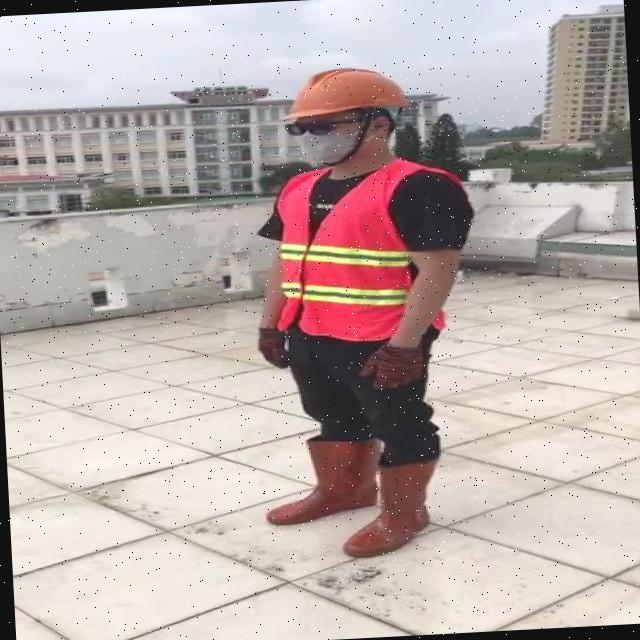boots: (262, 439, 382, 526), (340, 460, 438, 558)
helmet: (282, 61, 412, 120)
vest: (269, 160, 451, 346)
